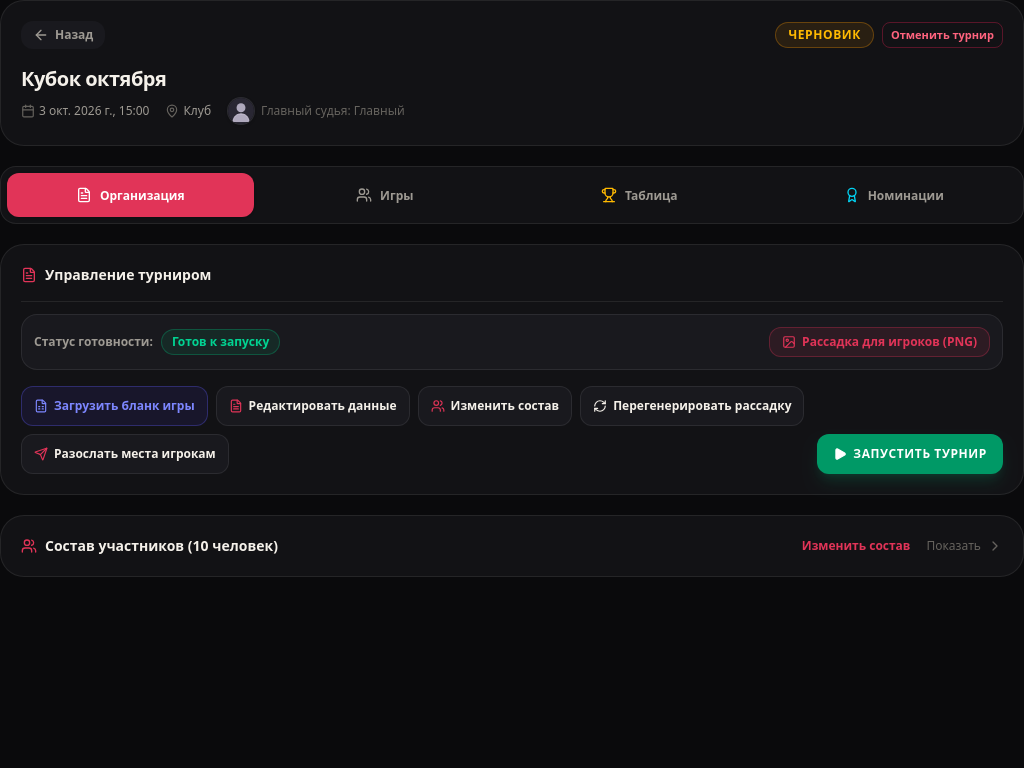
Test: tournament card: header and organization › the roster folds out with every participant
Expected: the heading "Кубок октября" is shown, [21,65,166,92]
Expected: the heading "Состав участников (10 человек)" is shown, [45,536,278,556]
Click the text "Показать" at point(954, 546), box [926,538,981,554]
(page scrolled)
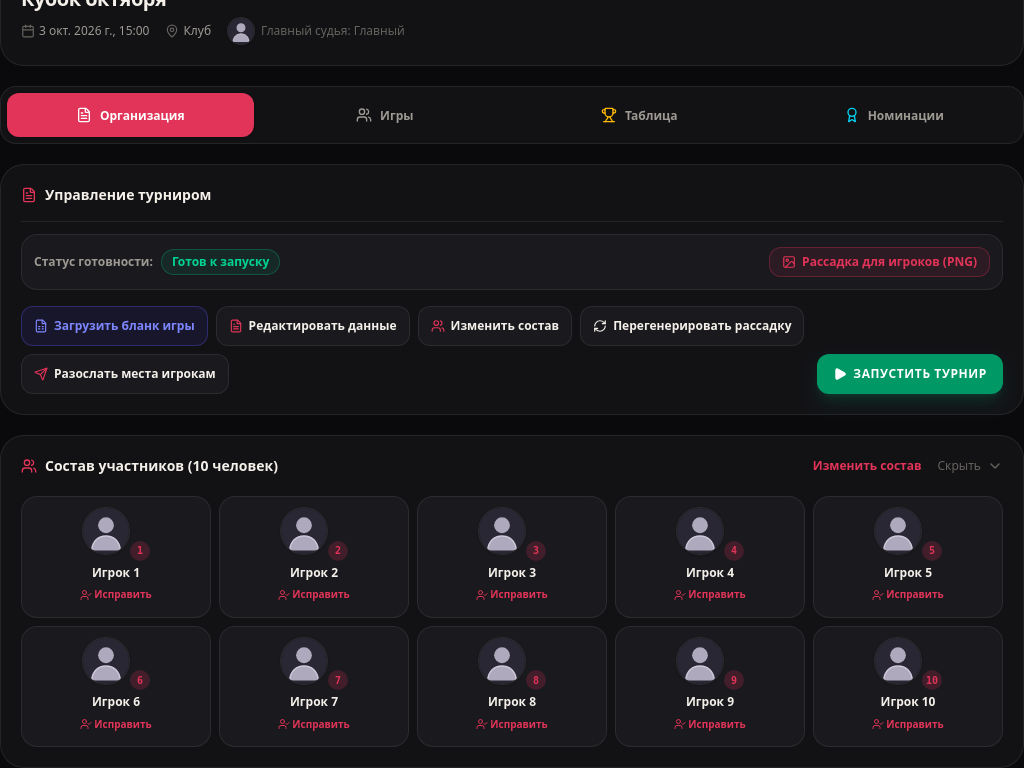
Expected: the text "Игрок 7" is shown, [290,693,338,710]
Expected: the number of buttons "Исправить" is 10
